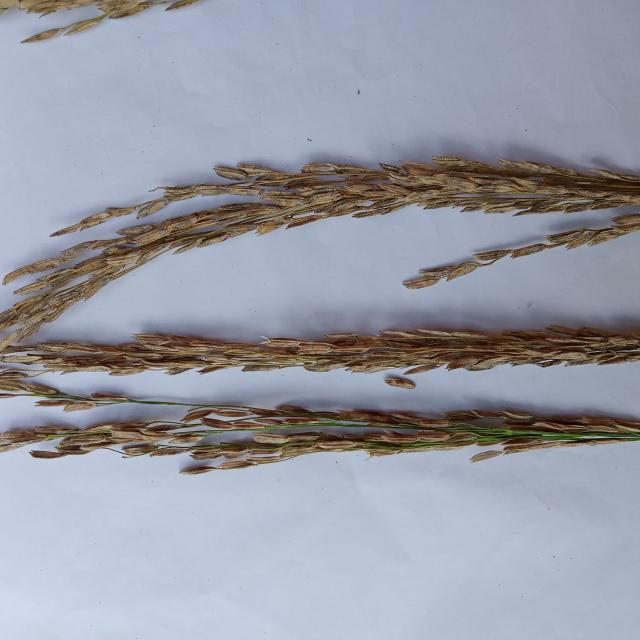Neck_Blast: (16, 163, 640, 342), (9, 409, 640, 460), (41, 335, 639, 373)
